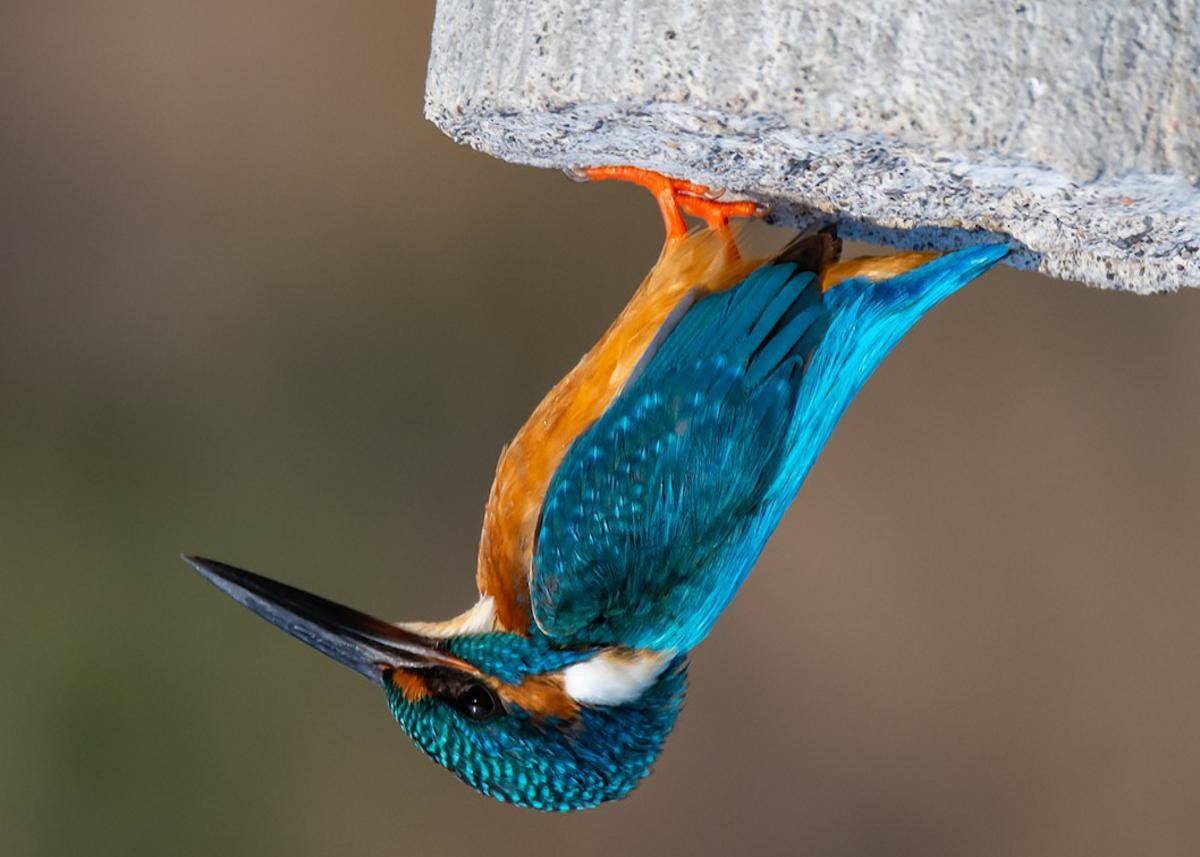kingfisher: (175, 144, 992, 829)
